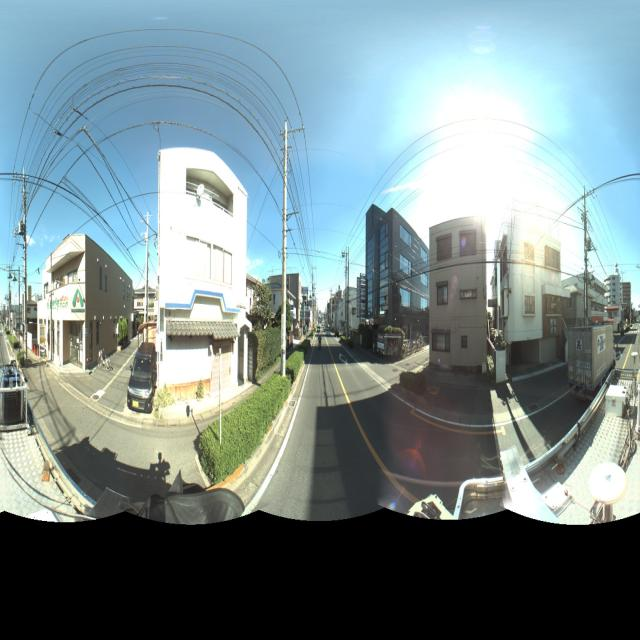b_1: (152, 140, 245, 414), (44, 219, 139, 370), (424, 208, 490, 378), (494, 227, 564, 371), (364, 197, 426, 341), (562, 260, 609, 338), (336, 287, 363, 345), (604, 266, 626, 328), (617, 281, 634, 334)
